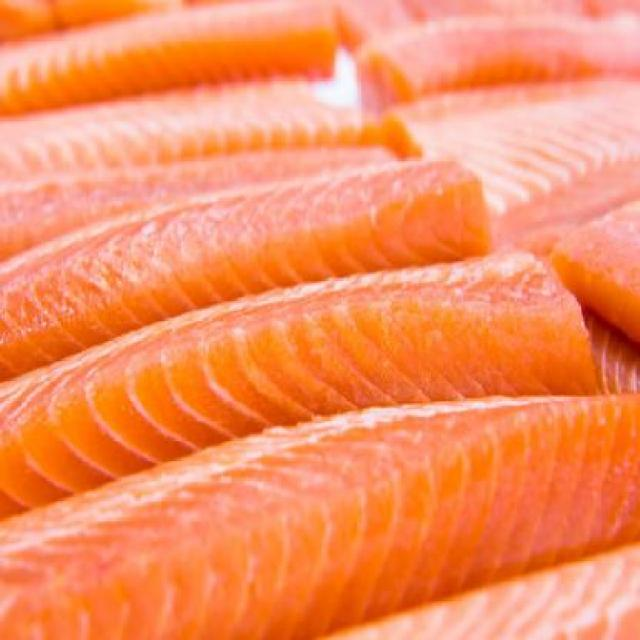salmon: (1, 401, 636, 640), (54, 269, 639, 523), (2, 149, 496, 394), (2, 89, 380, 243), (386, 58, 639, 237), (349, 23, 640, 169), (3, 11, 349, 121), (546, 198, 640, 336)
